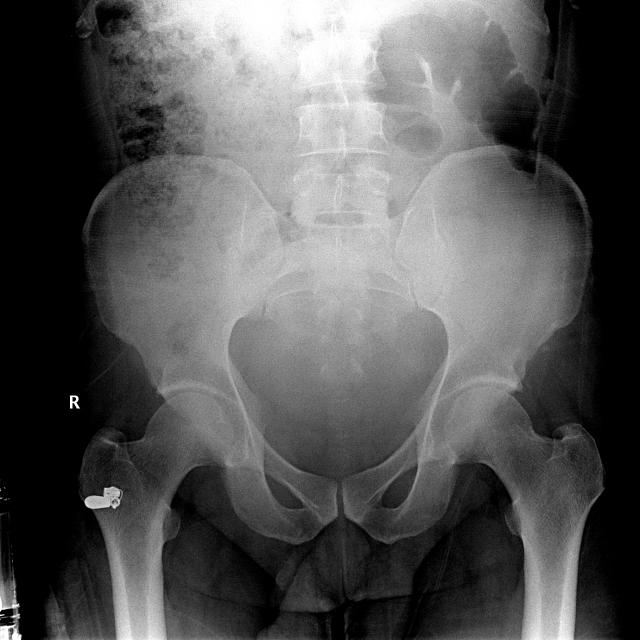normal-left: (443, 387, 604, 640)
normal-right: (78, 392, 233, 640)
